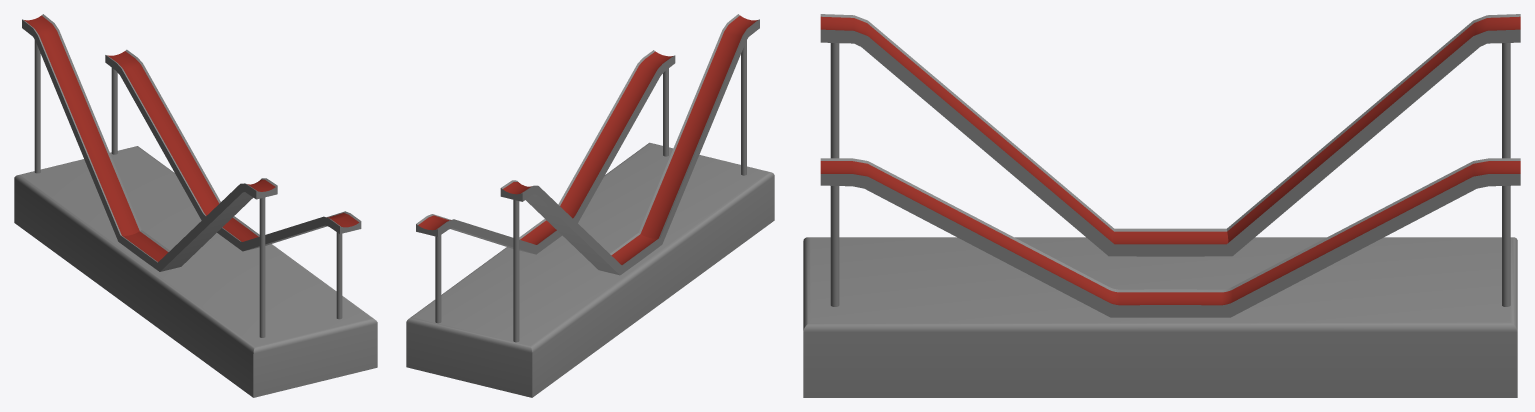
File: Lab4(1).fbx
3 views of the same model, side by side, from view 1: azimuth 30°, elevation 25°; view 2: azimuth 150°, elevation 25°; view 3: azimuth 270°, elevation 25° (orthographic). The views are drawn at different scales.
Visible parts, largest first — view 1: Cube.018, Cube.004, Metall.001, Cylinder.005, Cylinder.002, Cylinder.004, Cylinder.003; view 2: Cube.018, Cube.004, Metall.001, Cylinder.002, Cylinder.005, Cylinder.003, Cylinder.004; view 3: Cube.018, Cube.004, Metall.001, Cylinder.004, Cylinder.005, Cylinder.003, Cylinder.002.
Boxes of the visible parts, left/top/right/bottom form: Cube.018: left=14, top=146, right=377, bottom=397; Cube.004: left=22, top=14, right=277, bottom=271; Metall.001: left=105, top=49, right=361, bottom=251; Cylinder.005: left=259, top=197, right=265, bottom=337; Cylinder.002: left=34, top=40, right=40, bottom=173; Cylinder.004: left=336, top=232, right=342, bottom=319; Cylinder.003: left=111, top=68, right=117, bottom=154; Cube.018: left=406, top=142, right=774, bottom=397; Cube.004: left=500, top=14, right=759, bottom=275; Metall.001: left=416, top=50, right=675, bottom=254; Cylinder.002: left=513, top=200, right=519, bottom=342; Cylinder.005: left=741, top=40, right=746, bottom=175; Cylinder.003: left=435, top=235, right=441, bottom=323; Cylinder.004: left=663, top=68, right=668, bottom=156; Cube.018: left=803, top=237, right=1517, bottom=397; Cube.004: left=820, top=14, right=1520, bottom=256; Metall.001: left=820, top=158, right=1520, bottom=317; Cylinder.004: left=830, top=186, right=839, bottom=306; Cylinder.005: left=830, top=43, right=839, bottom=158; Cylinder.003: left=1502, top=186, right=1510, bottom=306; Cylinder.002: left=1502, top=43, right=1510, bottom=158.
Bounding box in the file's own units: 535 × 826 × 1792.
